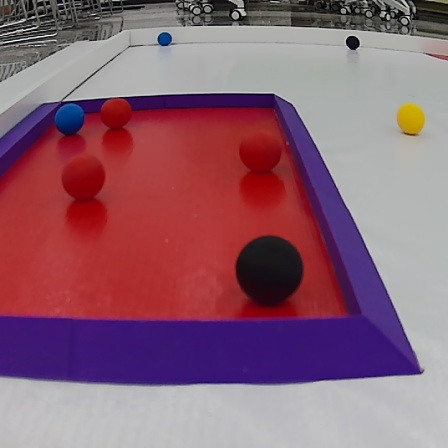black: (234, 229, 306, 306), (344, 35, 364, 53)
blue: (55, 101, 89, 135), (156, 31, 177, 47)
red: (240, 129, 286, 176), (62, 154, 108, 199), (99, 100, 138, 135)
red_aim: (0, 92, 420, 381)
red_base: (424, 47, 448, 62)
yellow: (396, 102, 425, 136)
